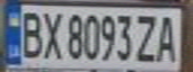0: (81, 10, 100, 61)
3: (115, 10, 136, 62)
8: (63, 9, 84, 61)
9: (100, 11, 118, 62)
A: (154, 11, 181, 63)
B: (18, 7, 45, 60)
X: (39, 8, 63, 61)
Z: (133, 11, 160, 64)
